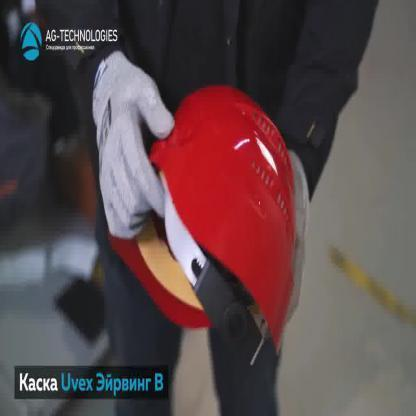gloves: (92, 56, 176, 245), (276, 146, 314, 340)
helmet: (105, 84, 296, 367)
